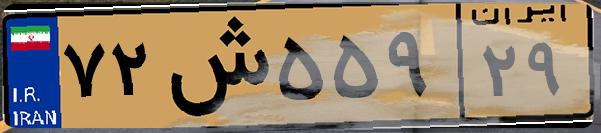2: (475, 38, 525, 113), (110, 28, 158, 98)
5: (270, 28, 330, 110), (330, 28, 385, 110)
7: (57, 26, 110, 100)
9: (385, 28, 445, 110), (525, 38, 570, 115)
ش: (158, 12, 270, 120)
